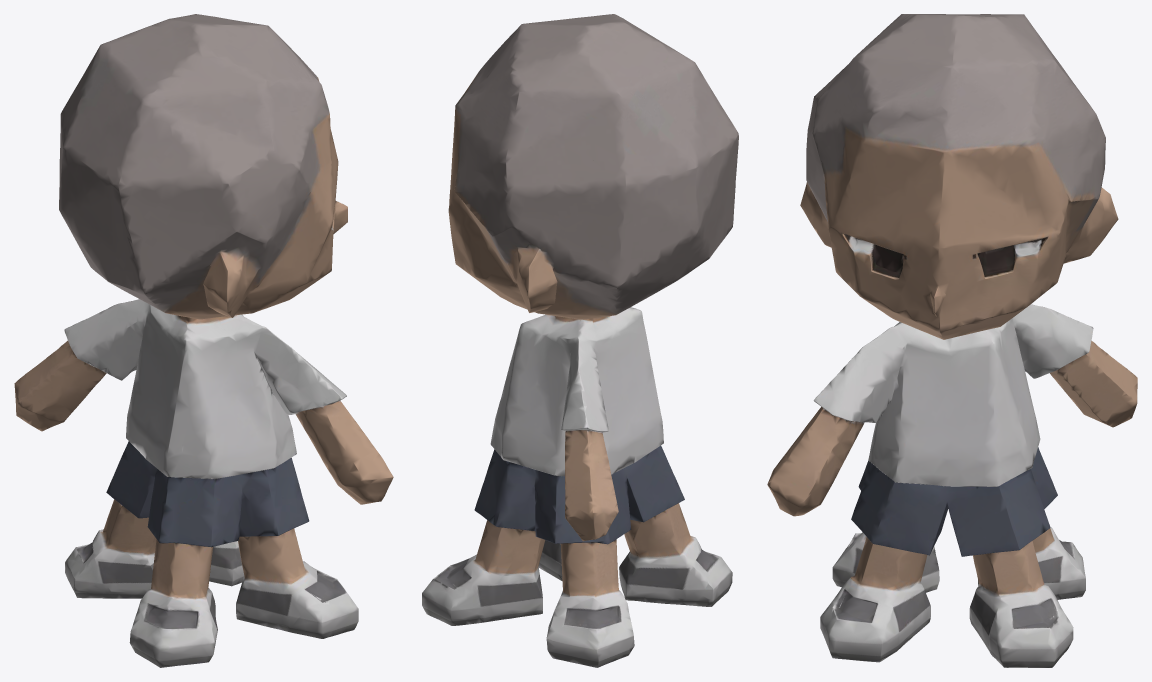
The model's file is dressed.glb.
3 renders of one model, left to right at view 1: azimuth 30°, elevation 25°; view 2: azimuth 150°, elevation 25°; view 3: azimuth 270°, elevation 25°, orthographic. The views are drawn at different scales.
Visible parts, largest first — view 1: tripo_node_4240b577-4eb6-4d68-b6f8-b0fc772c62eb; view 2: tripo_node_4240b577-4eb6-4d68-b6f8-b0fc772c62eb; view 3: tripo_node_4240b577-4eb6-4d68-b6f8-b0fc772c62eb.
Part boxes in pixels (x1,y1,x2,y2): tripo_node_4240b577-4eb6-4d68-b6f8-b0fc772c62eb: (14, 14, 393, 667); tripo_node_4240b577-4eb6-4d68-b6f8-b0fc772c62eb: (422, 14, 738, 667); tripo_node_4240b577-4eb6-4d68-b6f8-b0fc772c62eb: (767, 14, 1137, 667).
Bounding box in the file's own units: 0.4712 × 1 × 0.564.
1 material, 1 textured.
